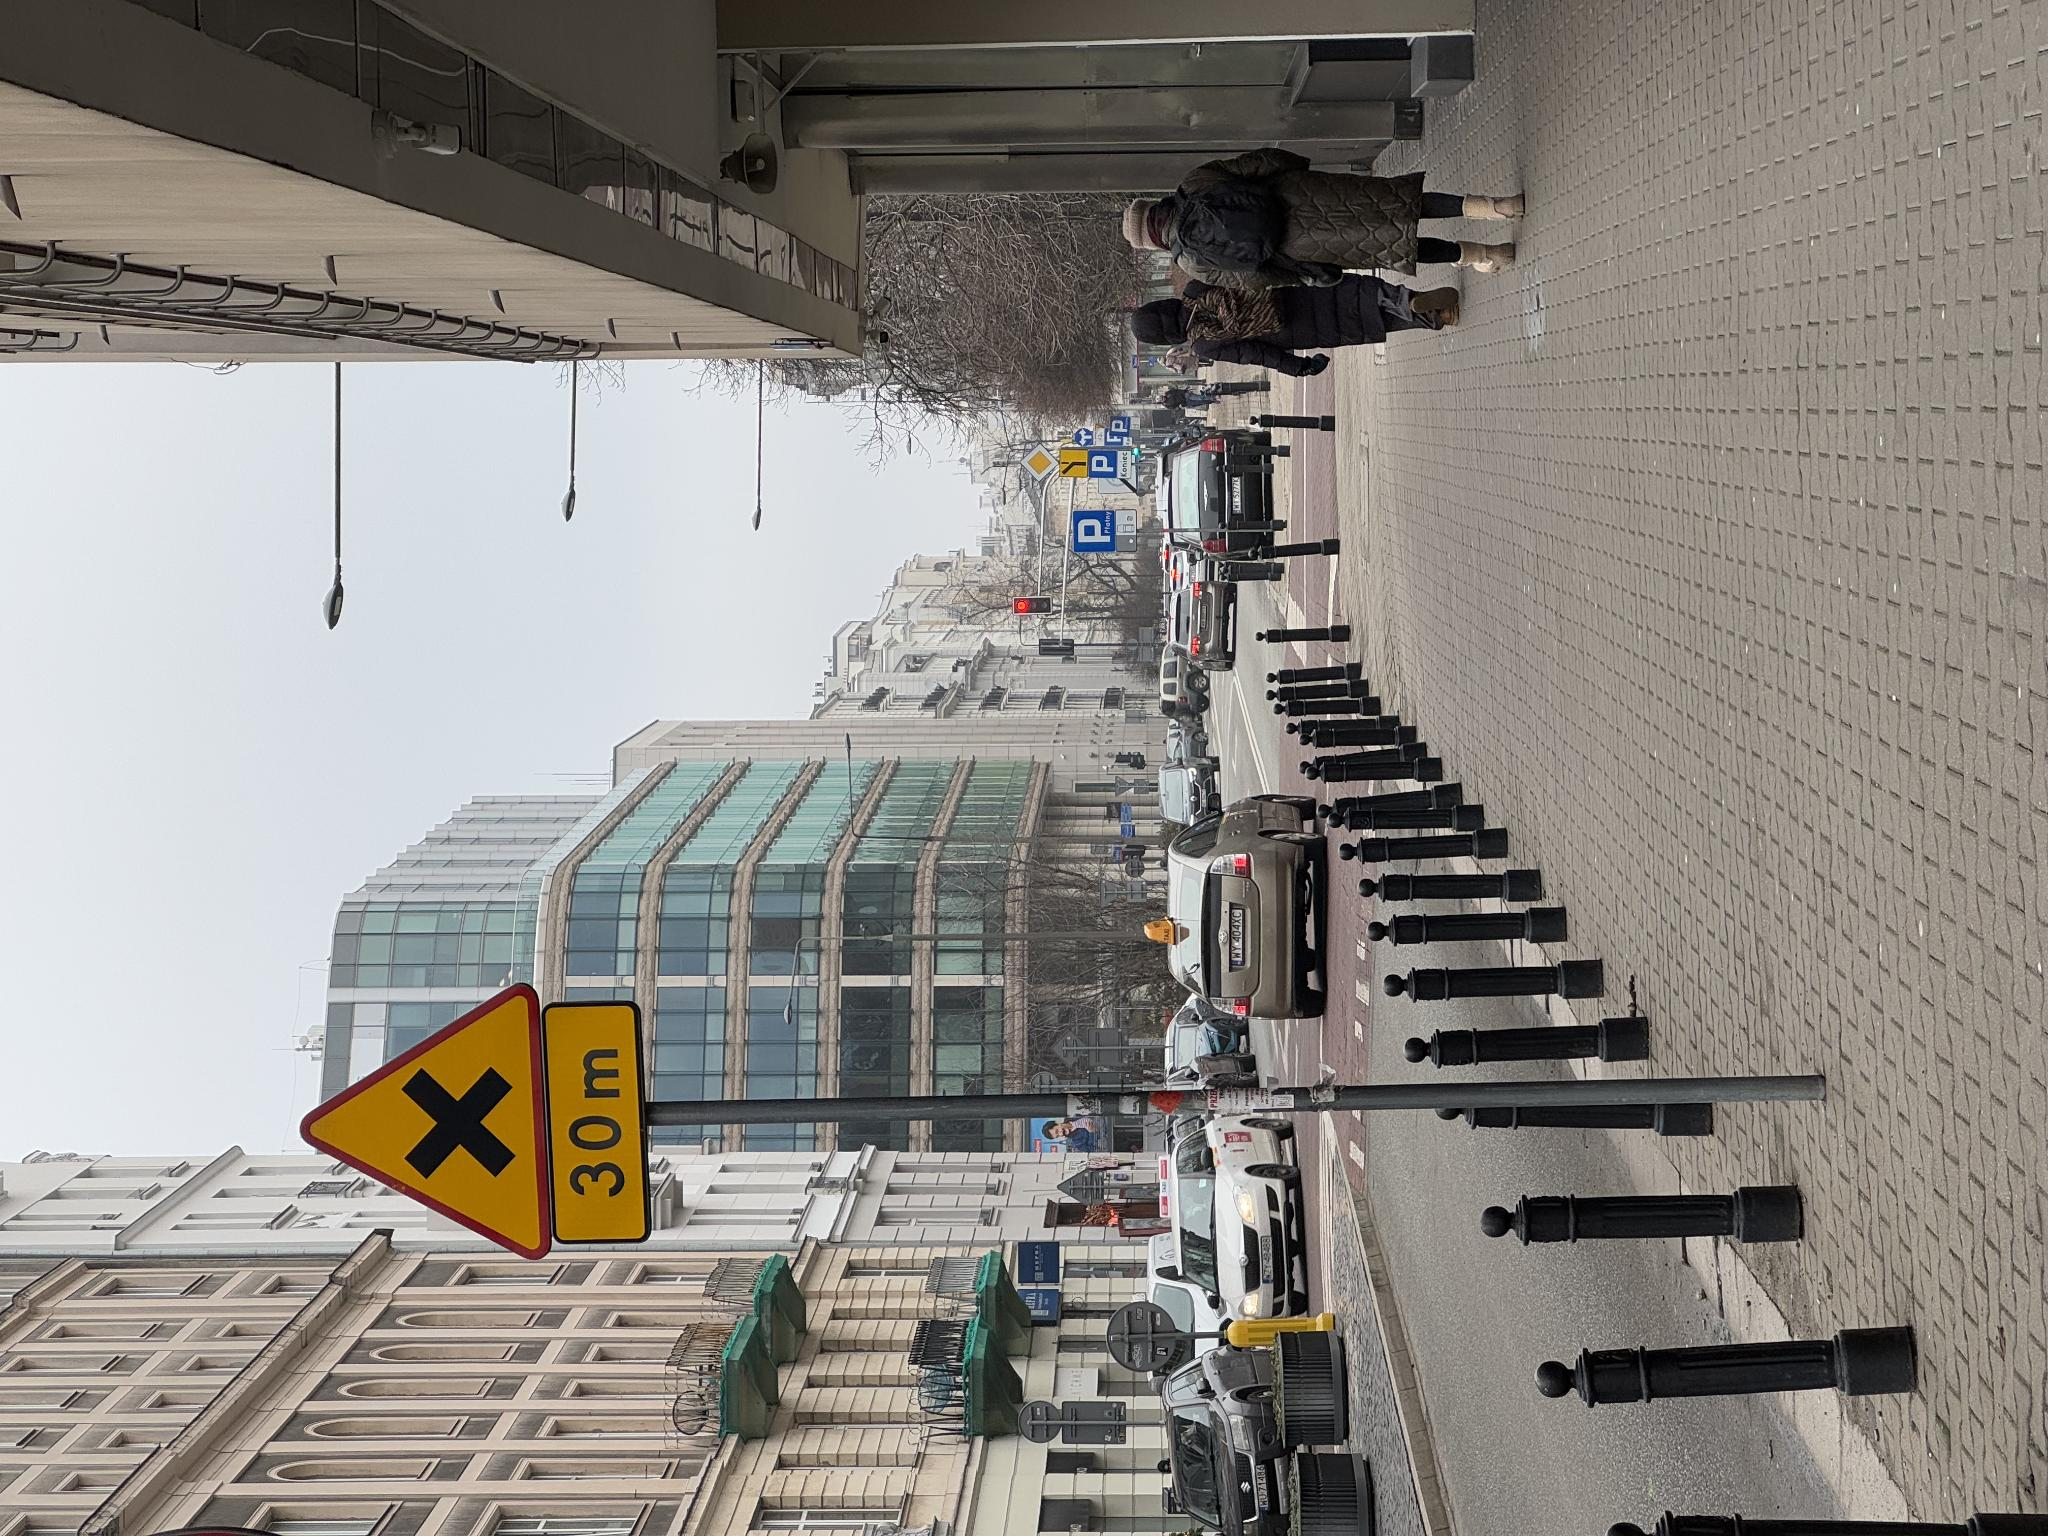information: (982, 1073, 1026, 1115), (1056, 1020, 1092, 1058), (1058, 1089, 1087, 1118), (1100, 1110, 1121, 1129)
mandatory: (1090, 1075, 1108, 1092)
other: (293, 544, 532, 650), (984, 1115, 1027, 1137), (1059, 1060, 1087, 1086), (1058, 1118, 1085, 1131)
prohibitory: (1050, 1105, 1058, 1129)
warning: (276, 298, 555, 552)
